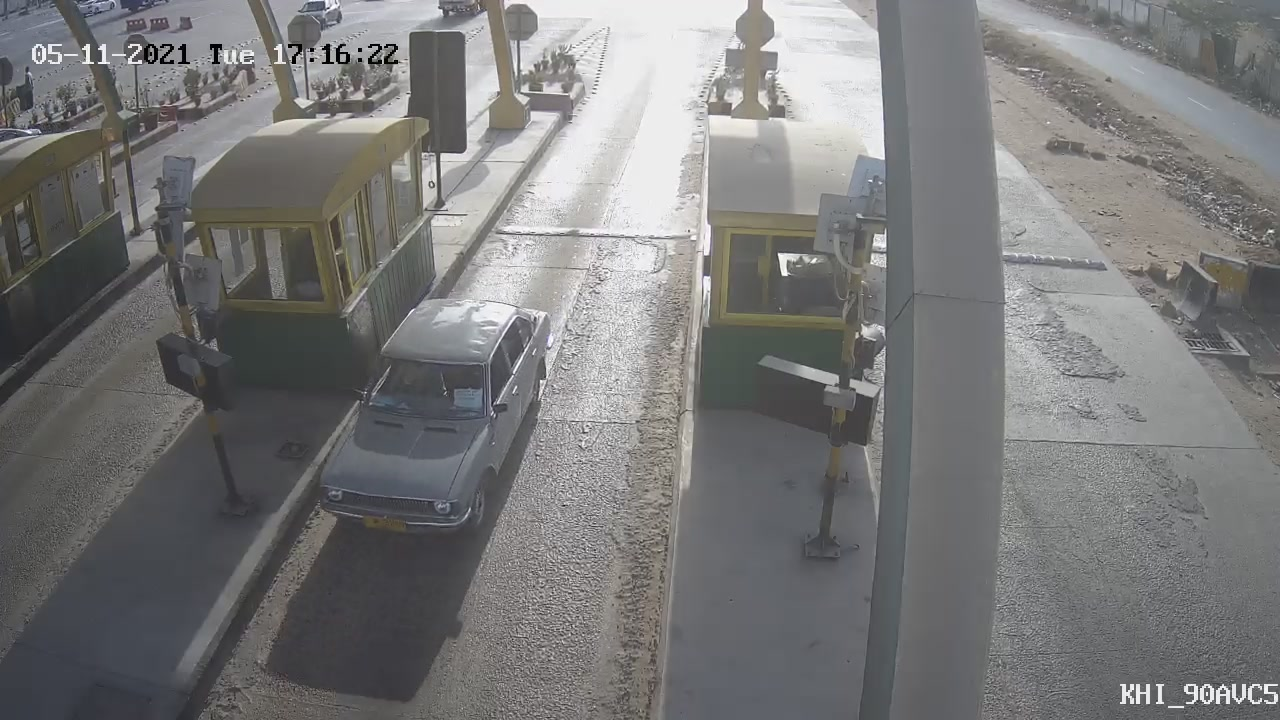F1: (294, 277, 568, 553)
